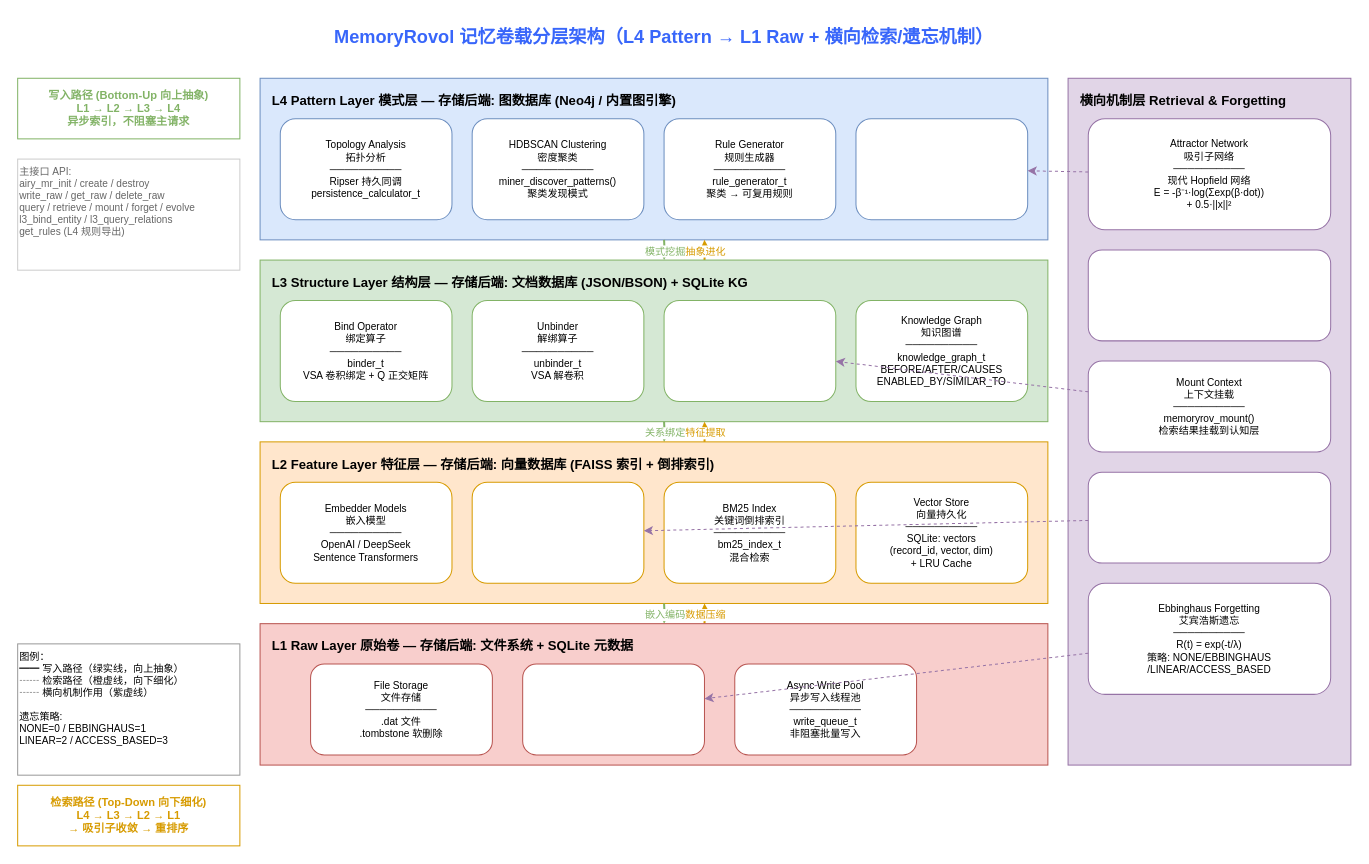
This 1369x864 diagram has some shape labels left out. Here are the shapes that lost their labels. From the top down, the centre of each, then its label:
At pixel 941 169: "Pattern Matcher 模式匹配器 ────────── pattern_matcher_t 模式匹配检索".
At pixel 1209 295: "Retrieval Cache 检索缓存 ────────── LRU 淘汰 热点检索结果缓存".
At pixel 749 350: "Relation Encoder 关系编码器 ────────── relation_encoder_t subj/pred/obj 角色".
At pixel 557 532: "FAISS Index 向量索引 ────────── HNSW / IVF / FLAT feature_vector_t".
At pixel 1209 517: "Reranker 重排序 ────────── 交叉编码器精排 + RRF 融合".
At pixel 613 709: "Metadata SQLite 元数据索引 ────────── raw_metadata_db_t (record_id, source, tags)".
